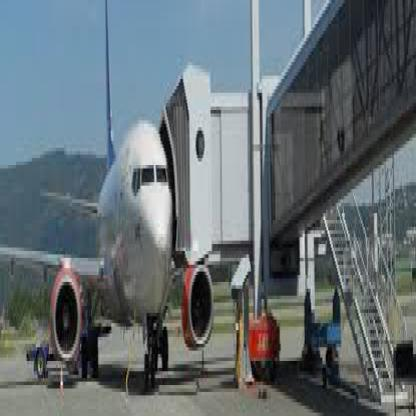boarding bridge: (154, 72, 194, 272)
